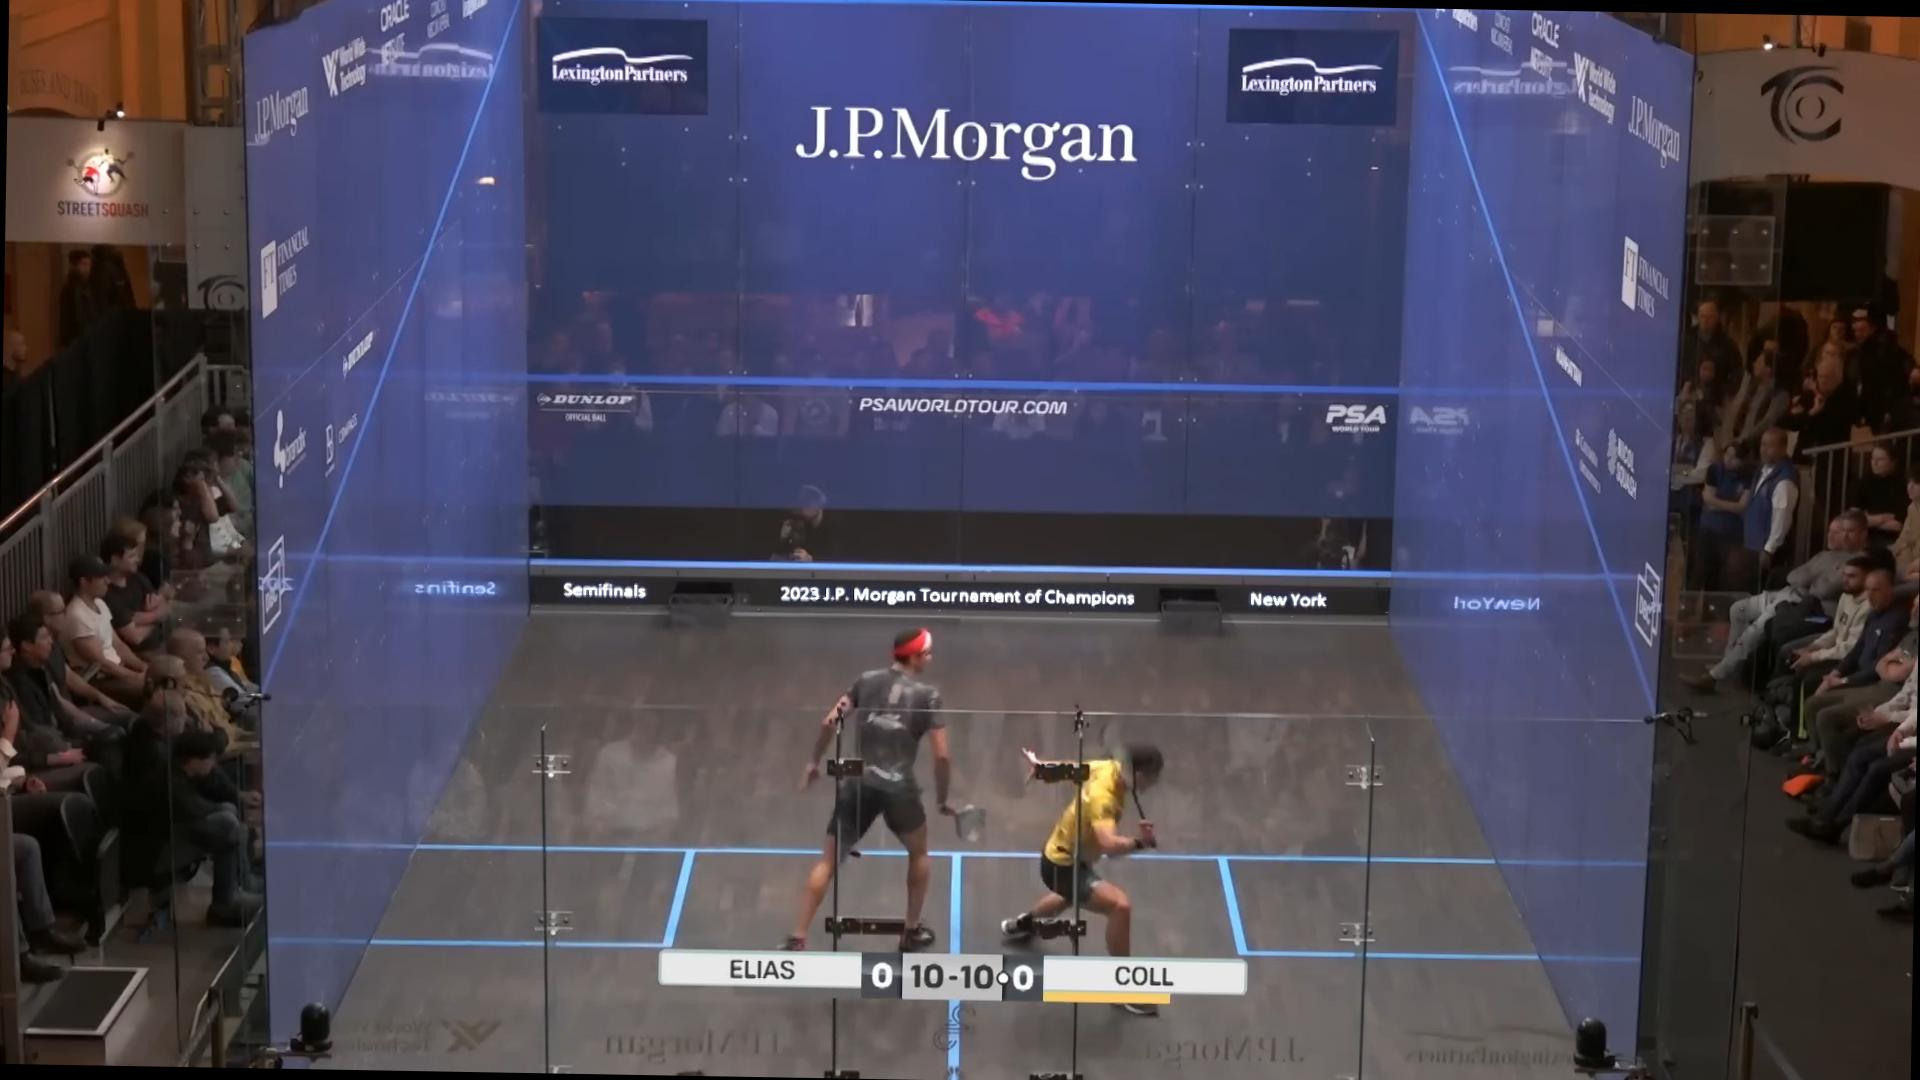Racket: (935, 802, 996, 853)
